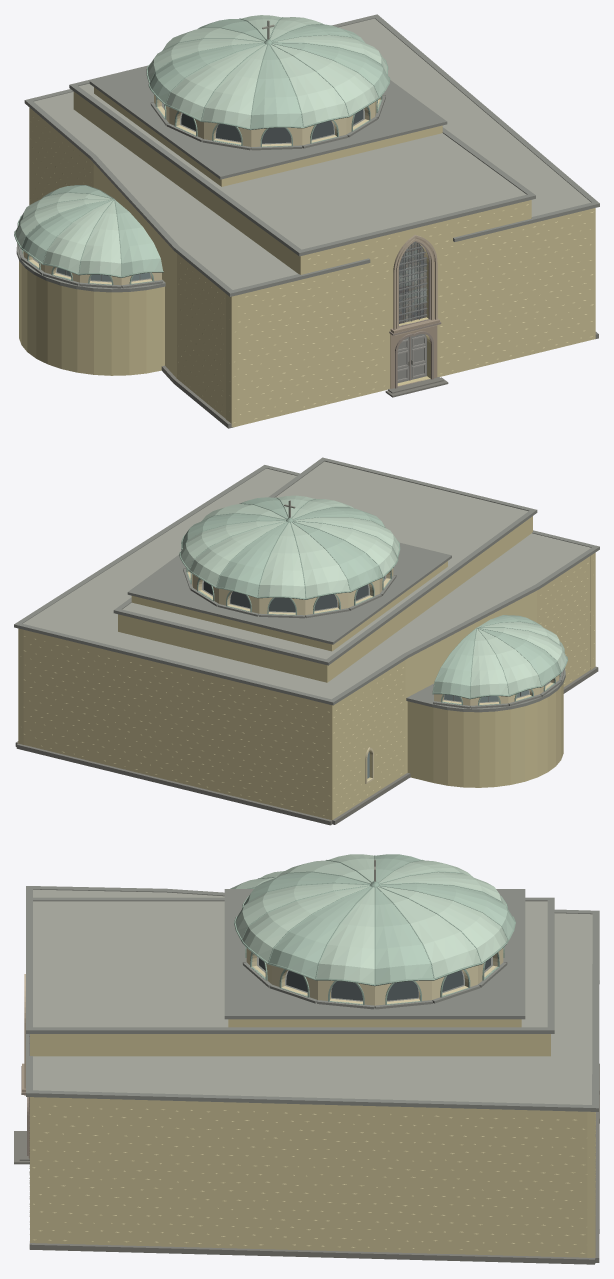
The model's file is changning-xiyan-church-lod.glb.
3 views of the same model, one above another, from view 1: azimuth 30°, elevation 25°; view 2: azimuth 150°, elevation 25°; view 3: azimuth 270°, elevation 25° (orthographic). The views are drawn at different scales.
Parts seen in each view (by area): view 1: 息焉堂（前庭、主堂铜顶及临河半圆体）; view 2: 息焉堂（前庭、主堂铜顶及临河半圆体）; view 3: 息焉堂（前庭、主堂铜顶及临河半圆体）.
Boxes of the visible parts, <box> form: 息焉堂（前庭、主堂铜顶及临河半圆体）: <box>14,14,599,428</box>; 息焉堂（前庭、主堂铜顶及临河半圆体）: <box>14,457,599,825</box>; 息焉堂（前庭、主堂铜顶及临河半圆体）: <box>14,854,599,1264</box>.
Size of the model in its own units: 21.4 by 10.95 by 19.95.
